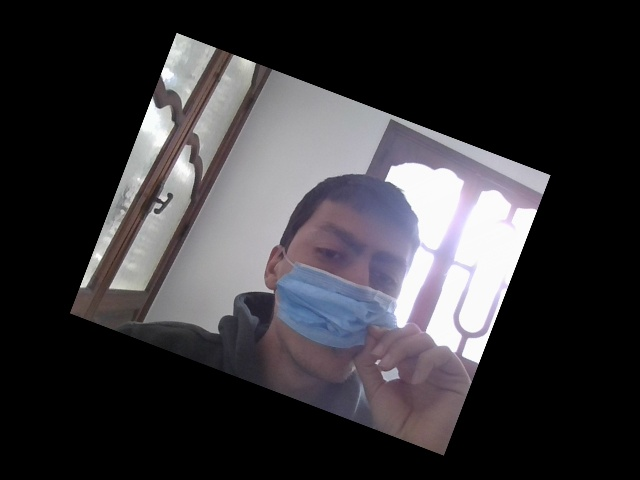mask_weared_incorrect: (274, 185, 411, 382)
